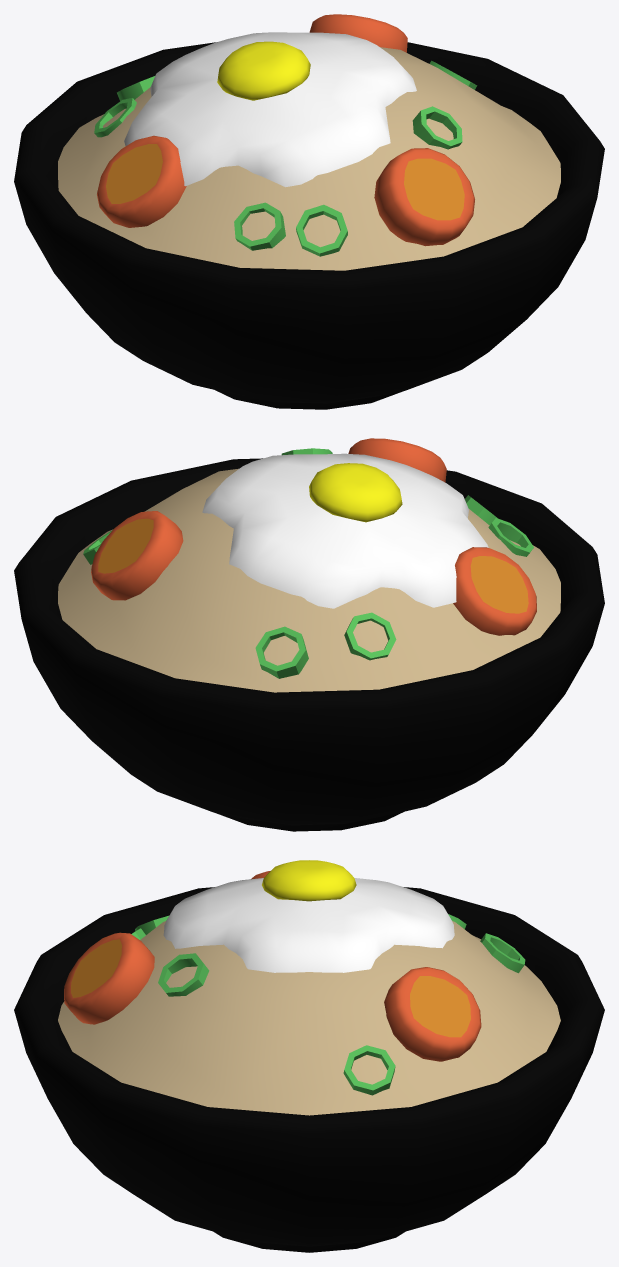
The model's file is ASFTR_Bowl_RiceEggCarrotOnion.fbx.
3 views of the same model, one above another, from view 1: azimuth 30°, elevation 25°; view 2: azimuth 150°, elevation 25°; view 3: azimuth 270°, elevation 25° (orthographic).
Visible parts, largest first — view 1: ASFTR_Bowl_RiceEggCarrotOnion; view 2: ASFTR_Bowl_RiceEggCarrotOnion; view 3: ASFTR_Bowl_RiceEggCarrotOnion.
Part boxes in pixels (x1,y1,x2,y2): ASFTR_Bowl_RiceEggCarrotOnion: (14, 14, 604, 409); ASFTR_Bowl_RiceEggCarrotOnion: (14, 438, 604, 831); ASFTR_Bowl_RiceEggCarrotOnion: (14, 860, 604, 1252).
Bounding box in the file's own units: 60.78 × 35.67 × 60.78.
